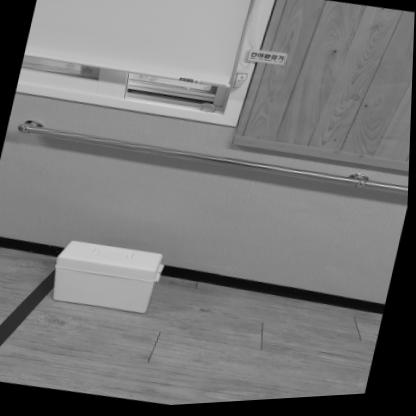DDL: (51, 236, 167, 321)
